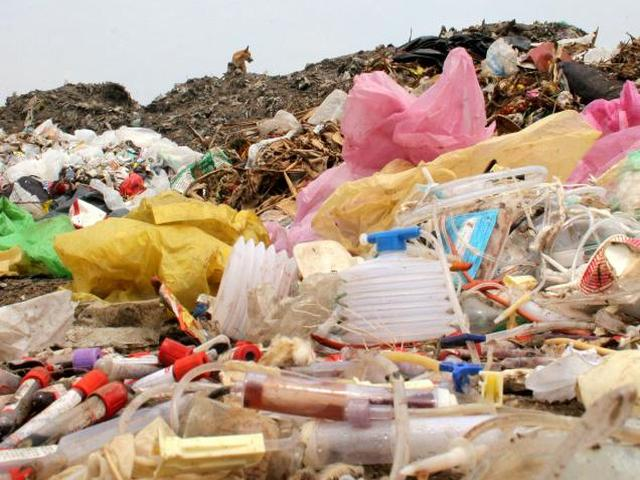garbage: (23, 101, 627, 467)
